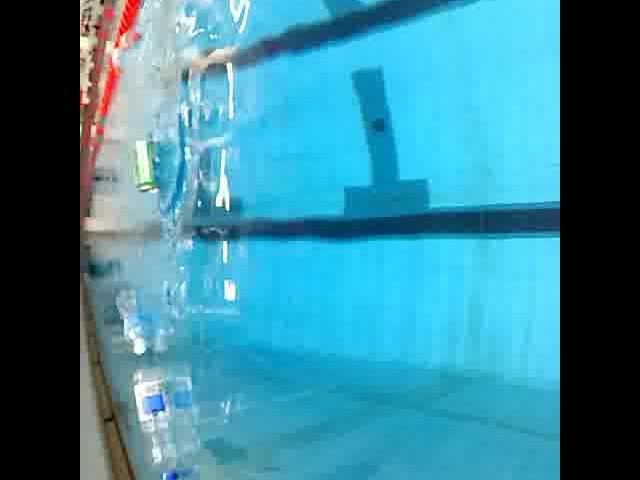Bottle: (129, 360, 187, 480), (110, 282, 154, 358)
Can: (128, 130, 166, 197)
